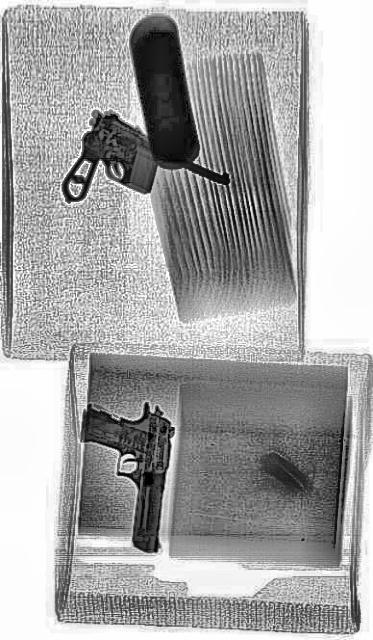Gun: (58, 93, 232, 275), (65, 380, 177, 554)
